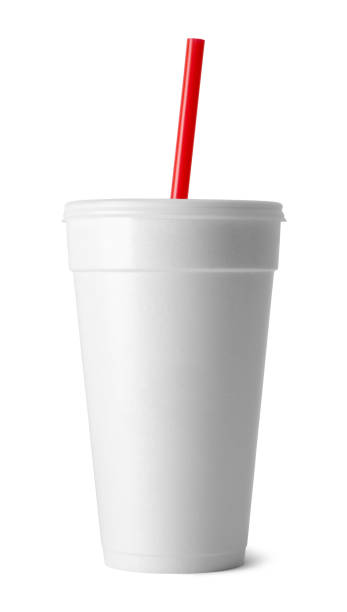Cup: (33, 20, 300, 591)
